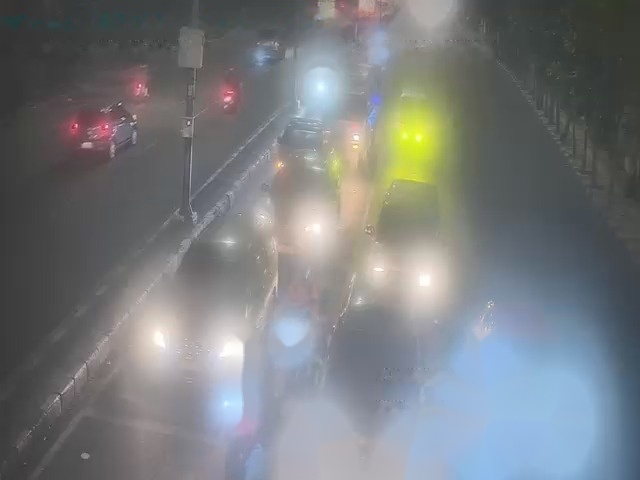Mobil: (311, 265, 426, 451), (175, 212, 280, 381), (369, 180, 442, 294), (269, 150, 336, 253), (66, 92, 134, 156), (271, 108, 336, 168)
Motor: (223, 73, 245, 111), (133, 62, 150, 98), (220, 80, 238, 112), (133, 82, 150, 97)
